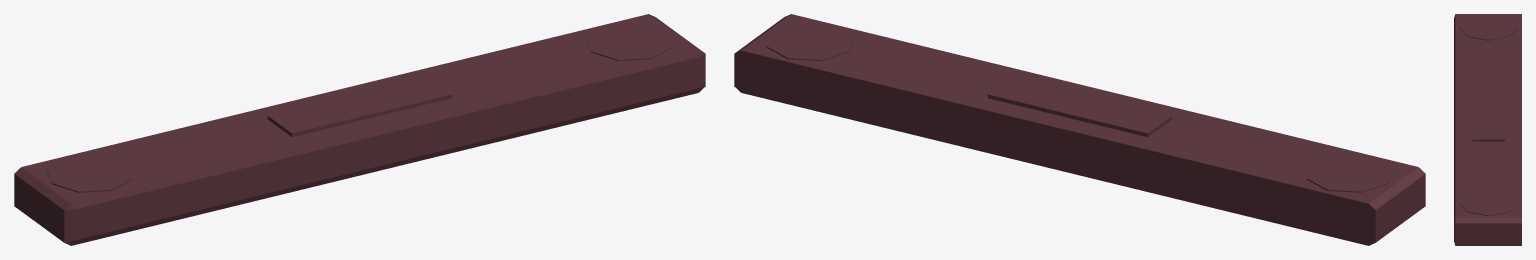
Rendered from soundbar-tv.fbx.
3 views of the same model, side by side, from view 1: azimuth 30°, elevation 25°; view 2: azimuth 150°, elevation 25°; view 3: azimuth 270°, elevation 25° (orthographic). The views are drawn at different scales.
Visible parts, largest first — view 1: soundbar-tv; view 2: soundbar-tv; view 3: soundbar-tv.
Boxes of the visible parts, bbox=[...] form: soundbar-tv: bbox=[14, 14, 705, 245]; soundbar-tv: bbox=[734, 14, 1425, 245]; soundbar-tv: bbox=[1454, 14, 1521, 245].
Bounding box in the file's own units: 1 × 0.0687 × 0.1378.
